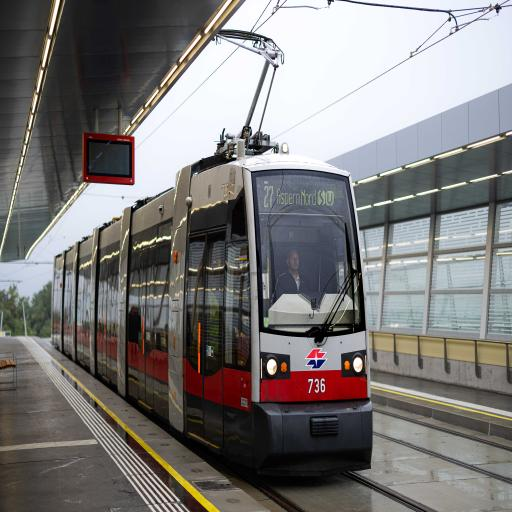ULF: (51, 146, 376, 472)
